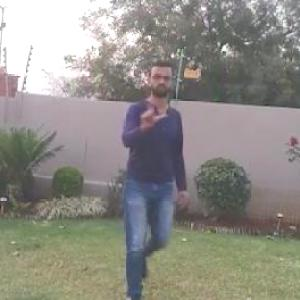land_hand: (135, 91, 168, 133)
